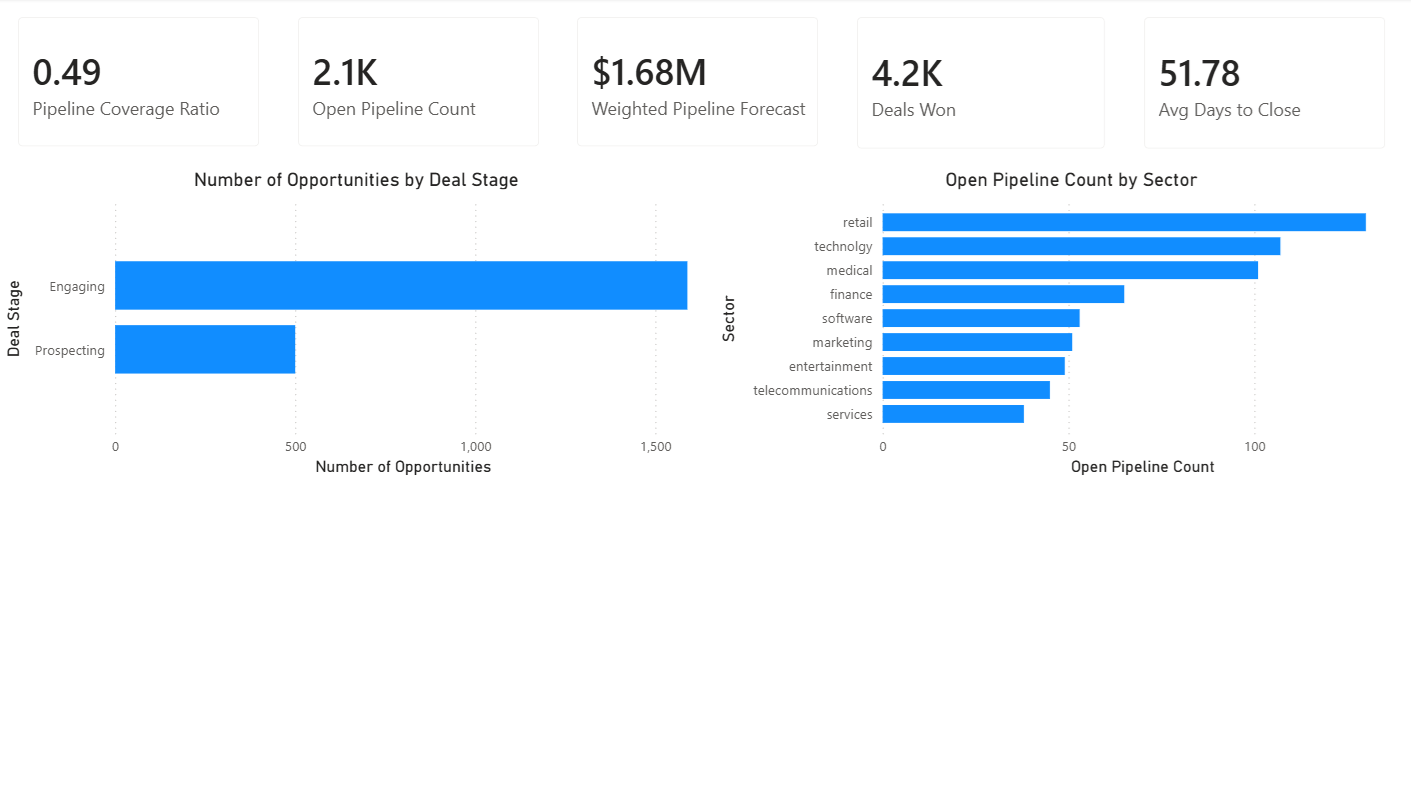

The page's visual inventory and layout, read from the dashboard file:
{"tool":"powerbi","page":{"name":"Pipeline & Forecast","canvas":[1280,720],"ordinal":2},"visuals":[{"type":"cardVisual","fields":{"Data":["_Measures.Pipeline Coverage Ratio"]},"box":[0,0,250,150],"z":0},{"type":"cardVisual","fields":{"Data":["_Measures.Avg Days to Close"]},"box":[1008,0,250,152],"z":1000},{"type":"cardVisual","fields":{"Data":["_Measures.Deals Won"]},"box":[751.5,0,256,152],"z":2000},{"type":"cardVisual","fields":{"Data":["_Measures.Open Pipeline Count"]},"box":[250.5,0,250,150],"z":3000},{"type":"clusteredBarChart","fields":{"Category":["sales_pipeline.deal_stage"],"Y":["CountNonNull(sales_pipeline.opportunity_id)"]},"box":[0,152,640,280],"z":4000},{"type":"clusteredBarChart","fields":{"Category":["accounts.sector"],"Y":["_Measures.Open Pipeline Count"]},"box":[640,152,640,280],"z":5000},{"type":"cardVisual","fields":{"Data":["_Measures.Weighted Pipeline Forecast"]},"box":[501,0,250,150],"z":6000}]}

Visuals, with their boxes in screenshot pixels (x1, y1, x2, y2), scaled from the page's 1280x720 canvas onto the 1411x796 screenshot:
cardVisual - _Measures.Pipeline Coverage Ratio: crop(0, 0, 276, 166)
cardVisual - _Measures.Avg Days to Close: crop(1111, 0, 1387, 168)
cardVisual - _Measures.Deals Won: crop(828, 0, 1111, 168)
cardVisual - _Measures.Open Pipeline Count: crop(276, 0, 552, 166)
clusteredBarChart - sales_pipeline.deal_stage x CountNonNull(sales_pipeline.opportunity_id): crop(0, 168, 706, 478)
clusteredBarChart - accounts.sector x _Measures.Open Pipeline Count: crop(706, 168, 1410, 478)
cardVisual - _Measures.Weighted Pipeline Forecast: crop(552, 0, 828, 166)
